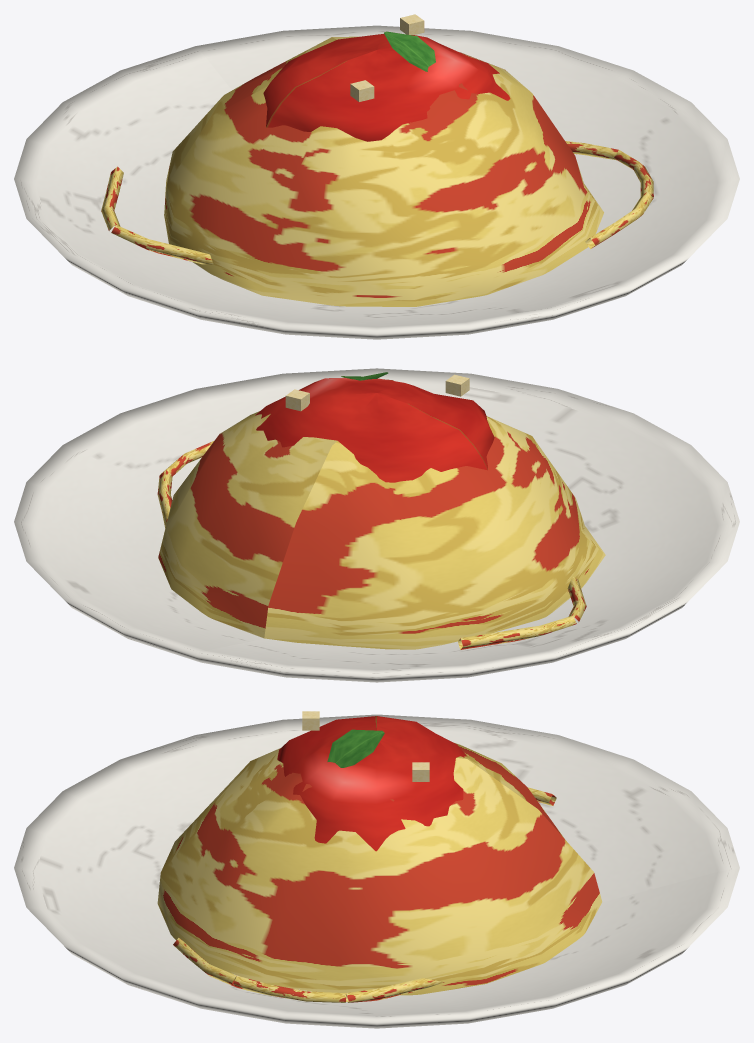
Rendered from pasta.obj.
3 views of the same model, one above another, from view 1: azimuth 30°, elevation 25°; view 2: azimuth 150°, elevation 25°; view 3: azimuth 270°, elevation 25° (orthographic).
Visible parts, largest first — view 1: pasta_0_surface; view 2: pasta_0_surface; view 3: pasta_0_surface.
Boxes of the visible parts, x1,y1,x2,y2 form: pasta_0_surface: [14, 14, 739, 339]; pasta_0_surface: [14, 368, 739, 682]; pasta_0_surface: [14, 711, 739, 1028].
Bounding box in the file's own units: 0.33 × 0.1002 × 0.33.
1 material, 1 textured.
